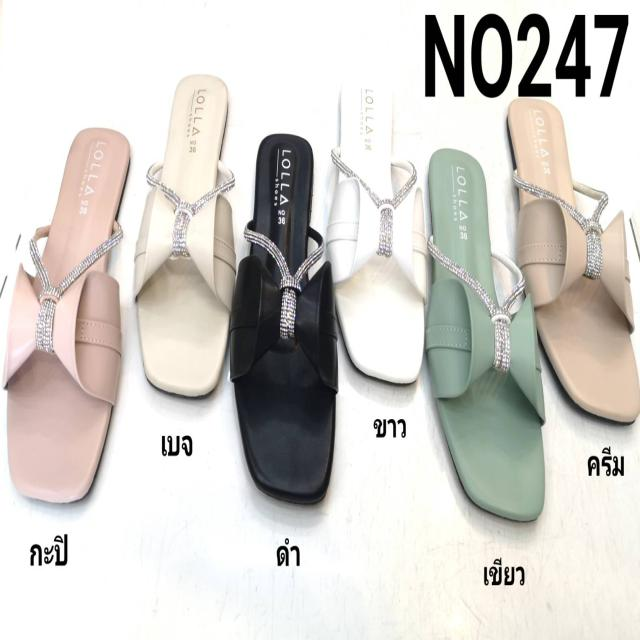bej: (137, 67, 231, 401)
black: (236, 128, 336, 502)
cream: (503, 92, 640, 427)
green: (426, 148, 546, 518)
kapi: (3, 118, 120, 508)
white: (335, 72, 427, 382)
